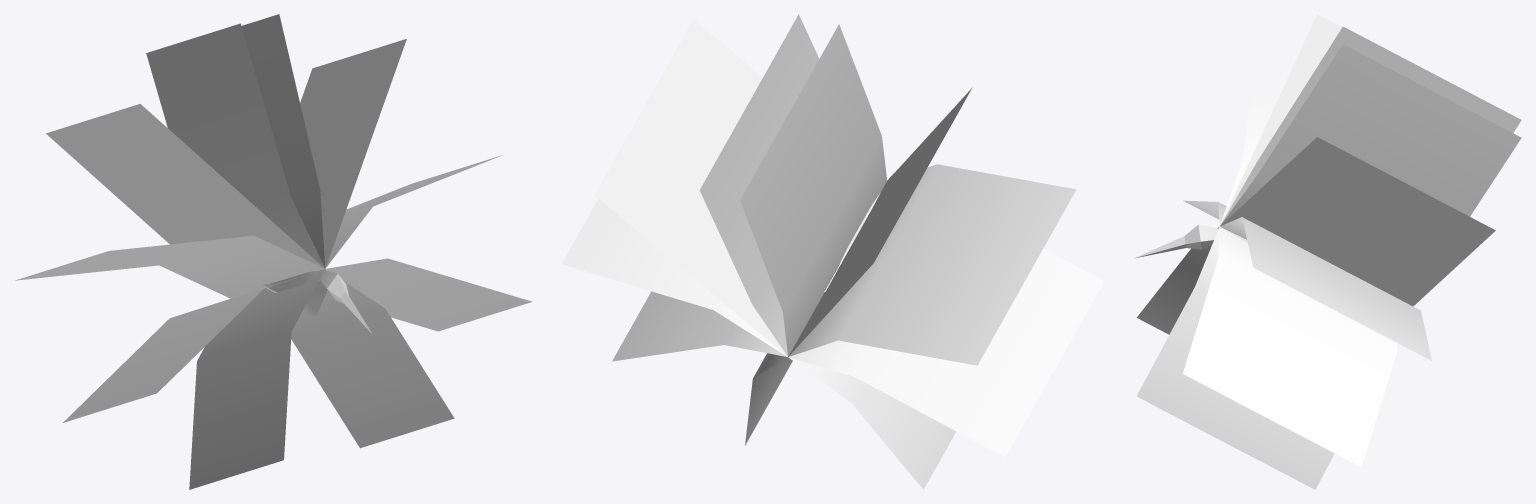
File: FX_Bird_Mesh_01.glb
3 renders of one model, left to right at view 1: azimuth 30°, elevation 25°; view 2: azimuth 150°, elevation 25°; view 3: azimuth 270°, elevation 25°, orthographic. The views are drawn at different scales.
Visible parts, largest first — view 1: FX_Bird_Mesh_01; view 2: FX_Bird_Mesh_01; view 3: FX_Bird_Mesh_01.
Boxes of the visible parts, x1,y1,x2,y2 form: FX_Bird_Mesh_01: [15, 14, 532, 489]; FX_Bird_Mesh_01: [562, 14, 1104, 489]; FX_Bird_Mesh_01: [1134, 14, 1521, 489].
Bounding box in the file's own units: 0.7874 × 0.8328 × 0.7061.
1 material, 1 textured.
